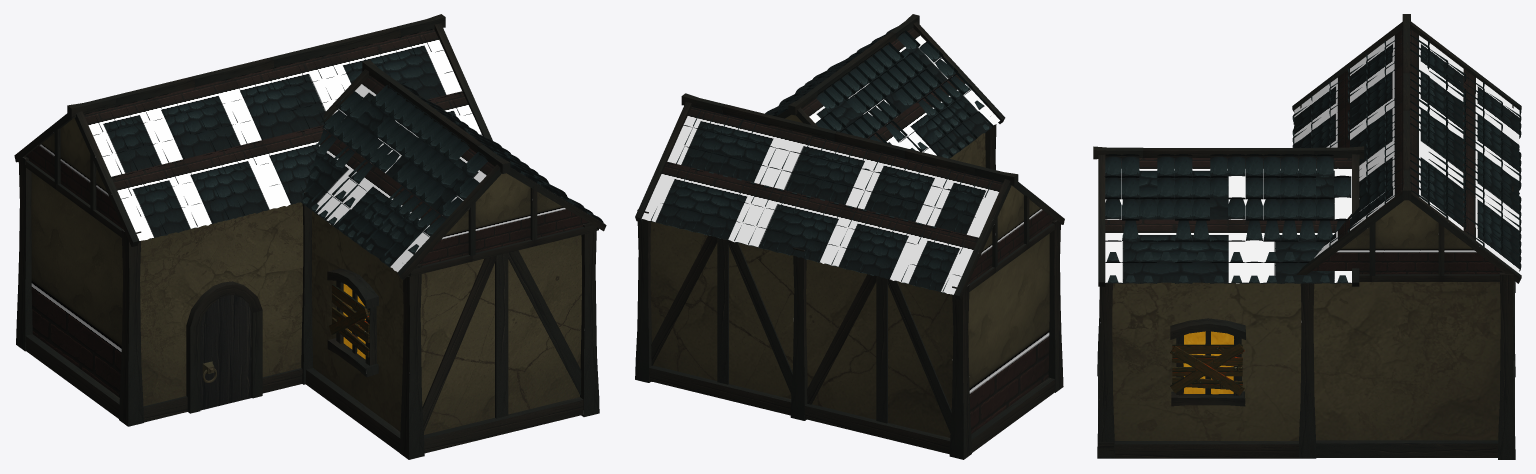
File: Damaged.House.glb
3 renders of one model, left to right at view 1: azimuth 30°, elevation 25°; view 2: azimuth 150°, elevation 25°; view 3: azimuth 270°, elevation 25°, orthographic. The views are drawn at different scales.
Parts seen in each view (by area): view 1: Damaged.House; view 2: Damaged.House; view 3: Damaged.House.
Part boxes in pixels (bbox=[...]): Damaged.House: bbox=[14, 14, 606, 459]; Damaged.House: bbox=[635, 14, 1064, 459]; Damaged.House: bbox=[1093, 14, 1521, 459].
Bounding box in the file's own units: 6.79 × 4.8 × 6.89.
Materials: 5 (5 with a texture image).
